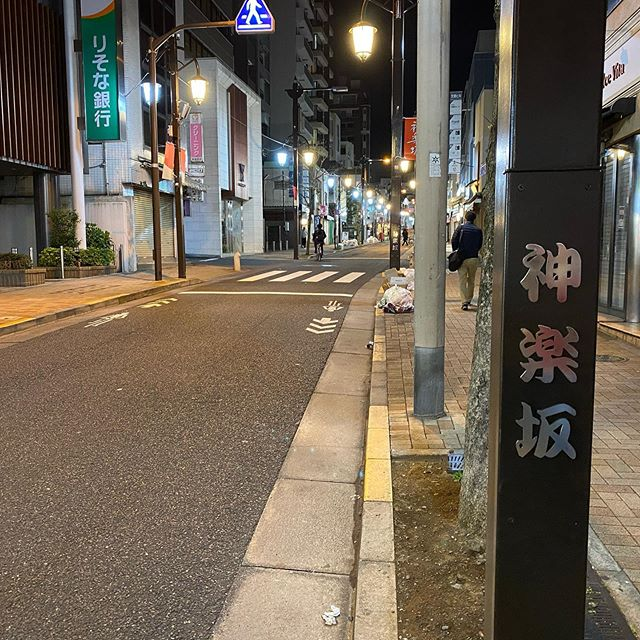building: (1, 1, 186, 289), (170, 1, 259, 261), (253, 1, 336, 245), (333, 76, 371, 252)
crosswalk: (230, 242, 386, 310)
sidewalk: (382, 271, 640, 640)
sign: (79, 1, 142, 139), (229, 1, 279, 37)
street: (1, 246, 388, 640)
